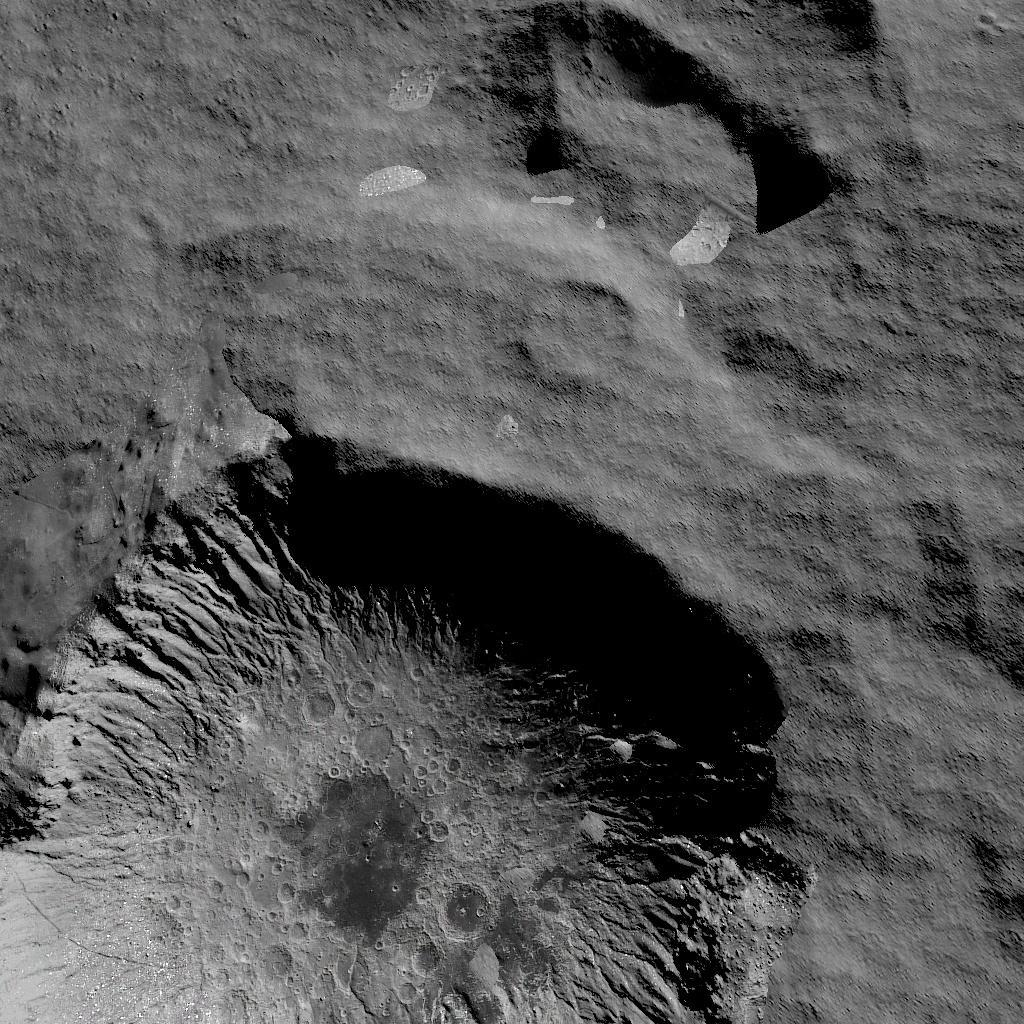Crater: (1, 394, 796, 1024), (514, 247, 646, 380)
Plan surface: (0, 0, 498, 379)
